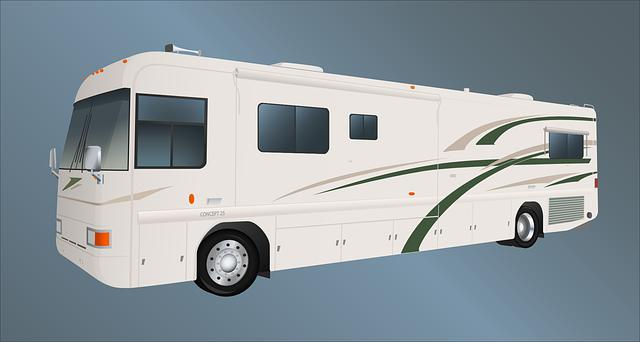Non_Gorille: (57, 36, 607, 273)
